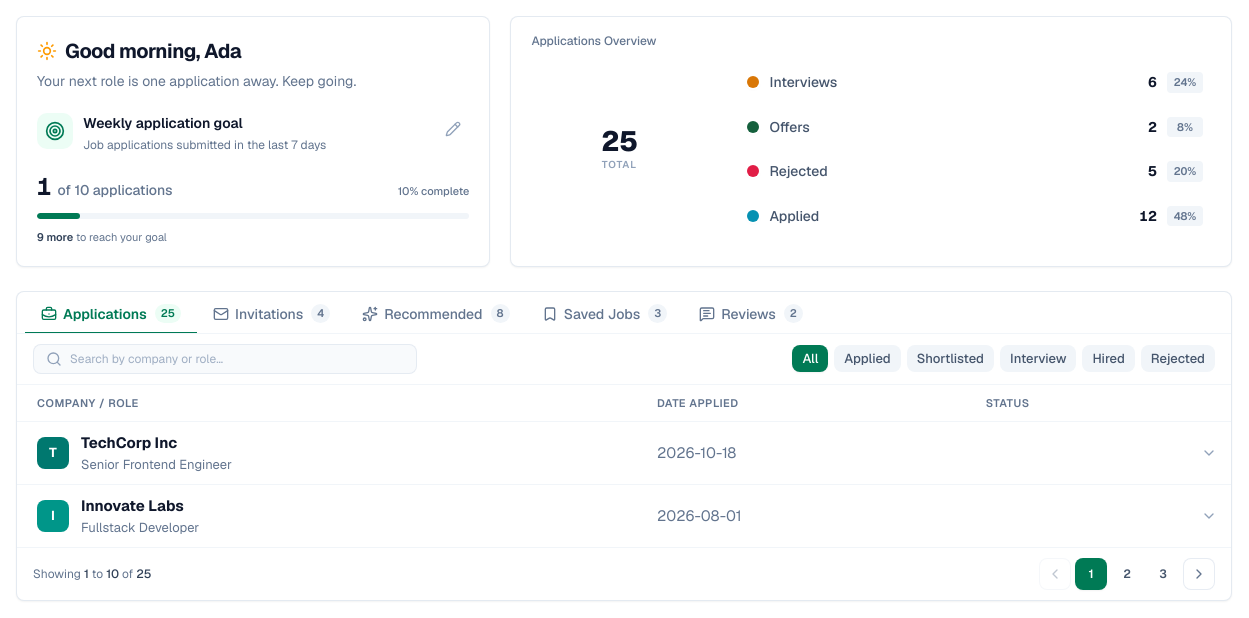
Test: TalentDashboard Component › switches to the Saved Jobs tab and renders the saved jobs table
The image size is (1249, 618).
Step 1. Click the button "Saved Jobs 3" → (604, 314), box [526, 296, 683, 334]
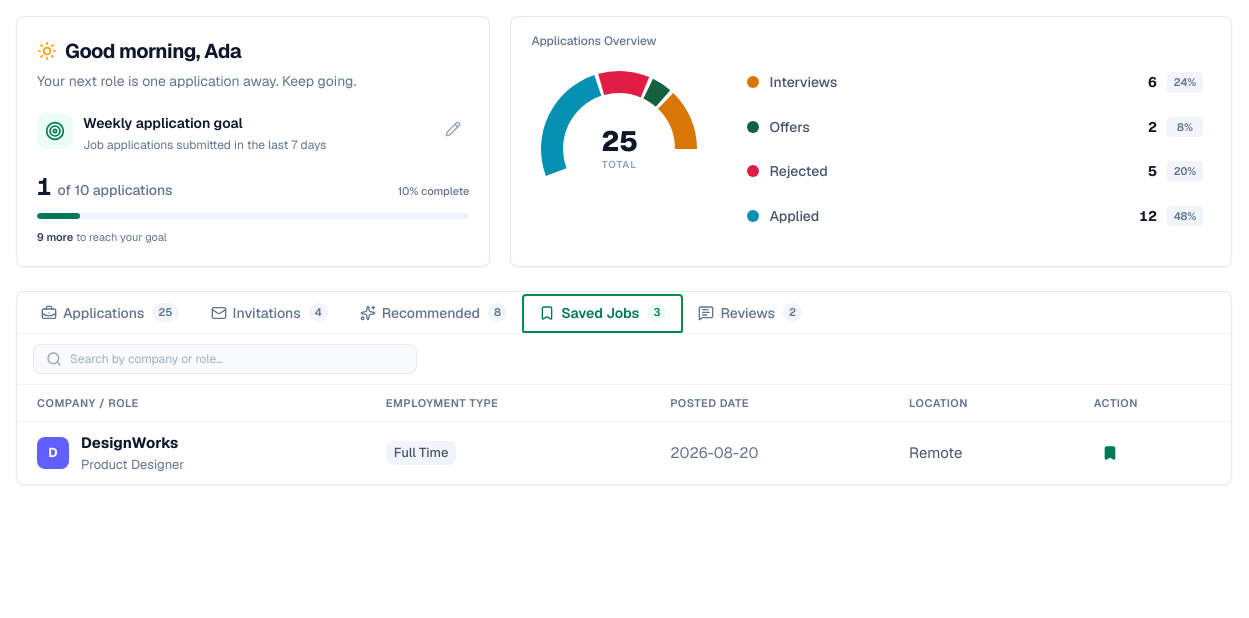
Check: the text "DesignWorks" is shown, box [81, 432, 184, 454]
